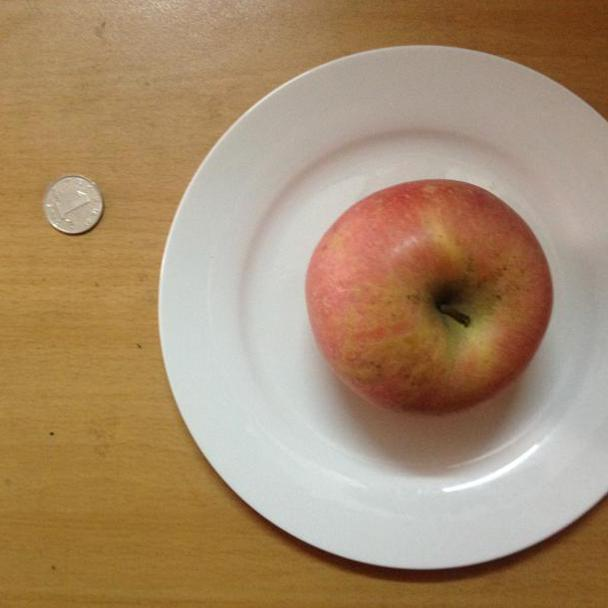apple: (300, 177, 564, 416)
